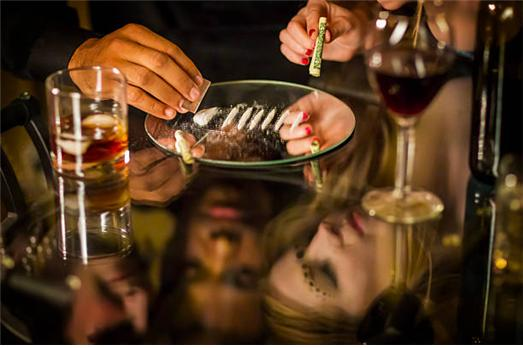alcohol: (358, 12, 452, 224), (44, 63, 130, 195)
